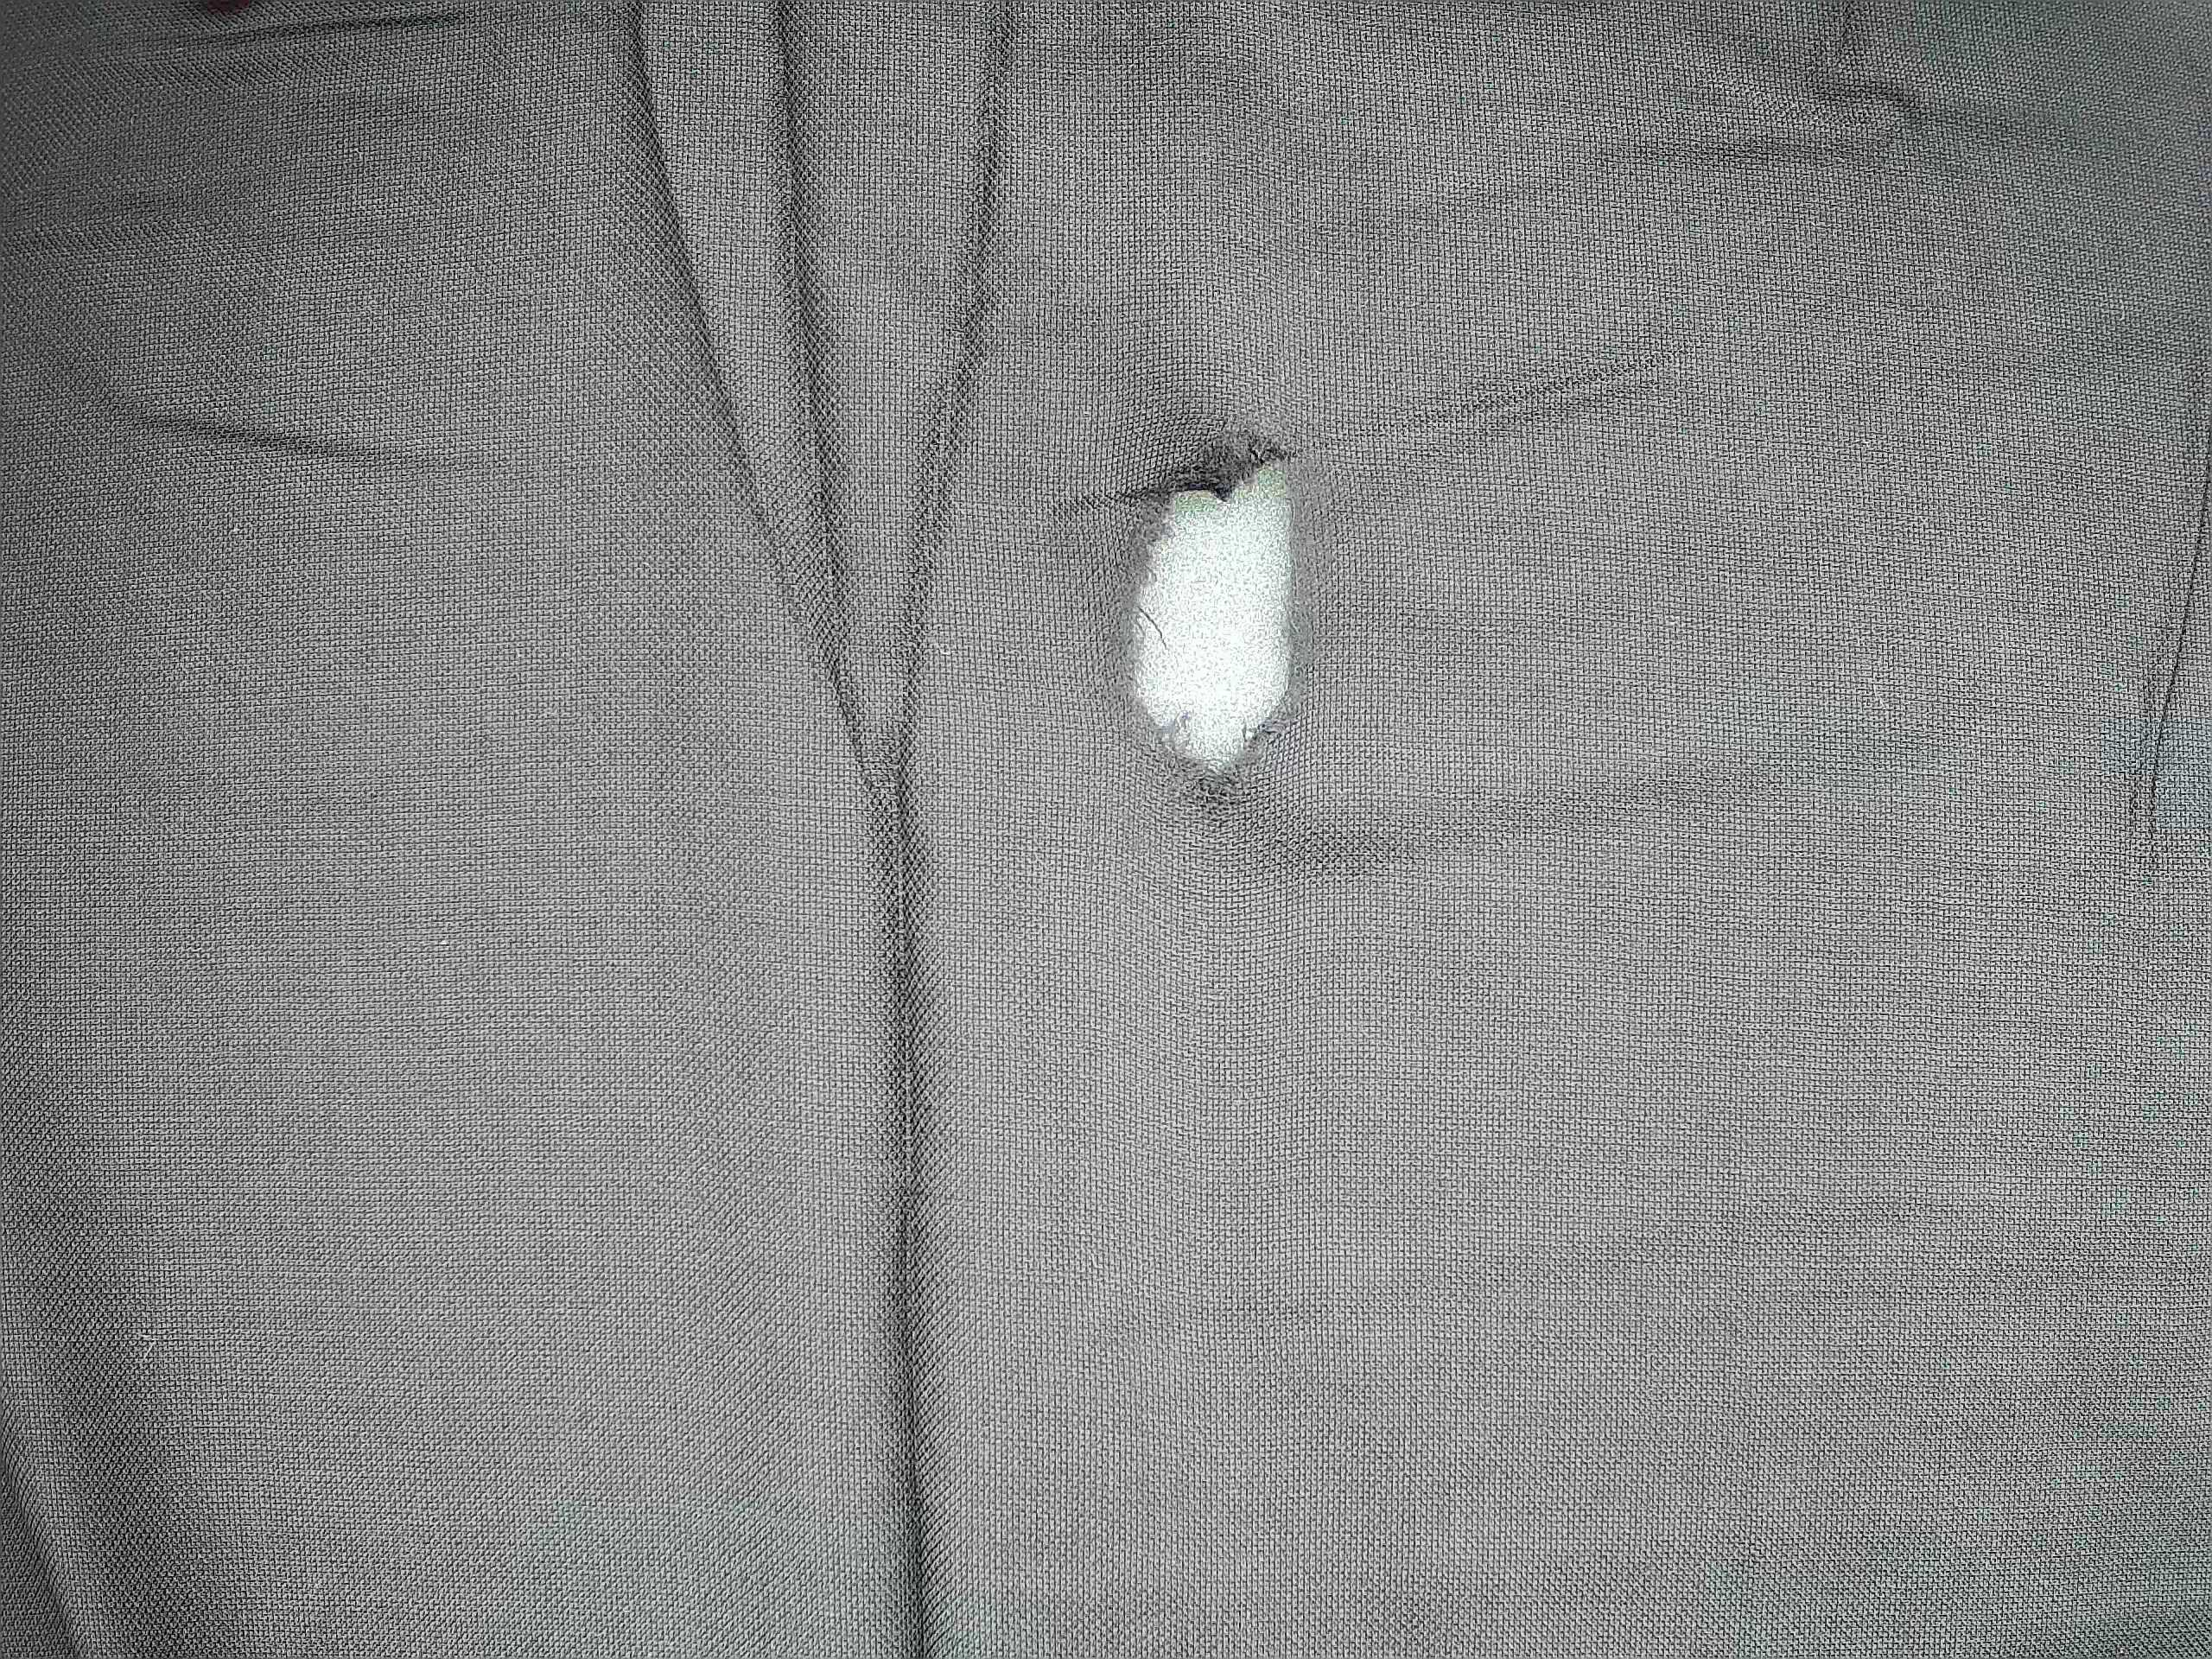rubbing-hole: (1087, 401, 1348, 824)
